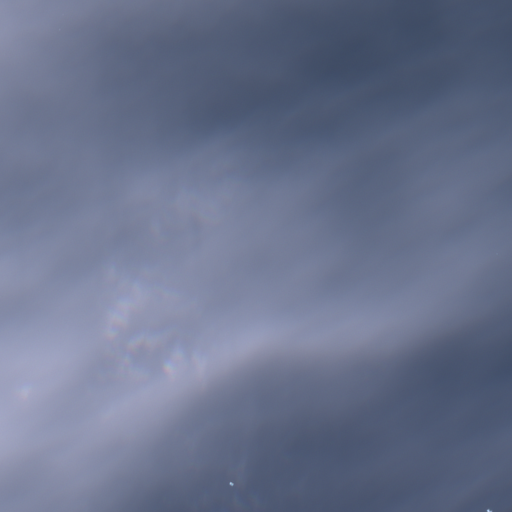Iceberg: (229, 482, 233, 485), (486, 509, 492, 511)
